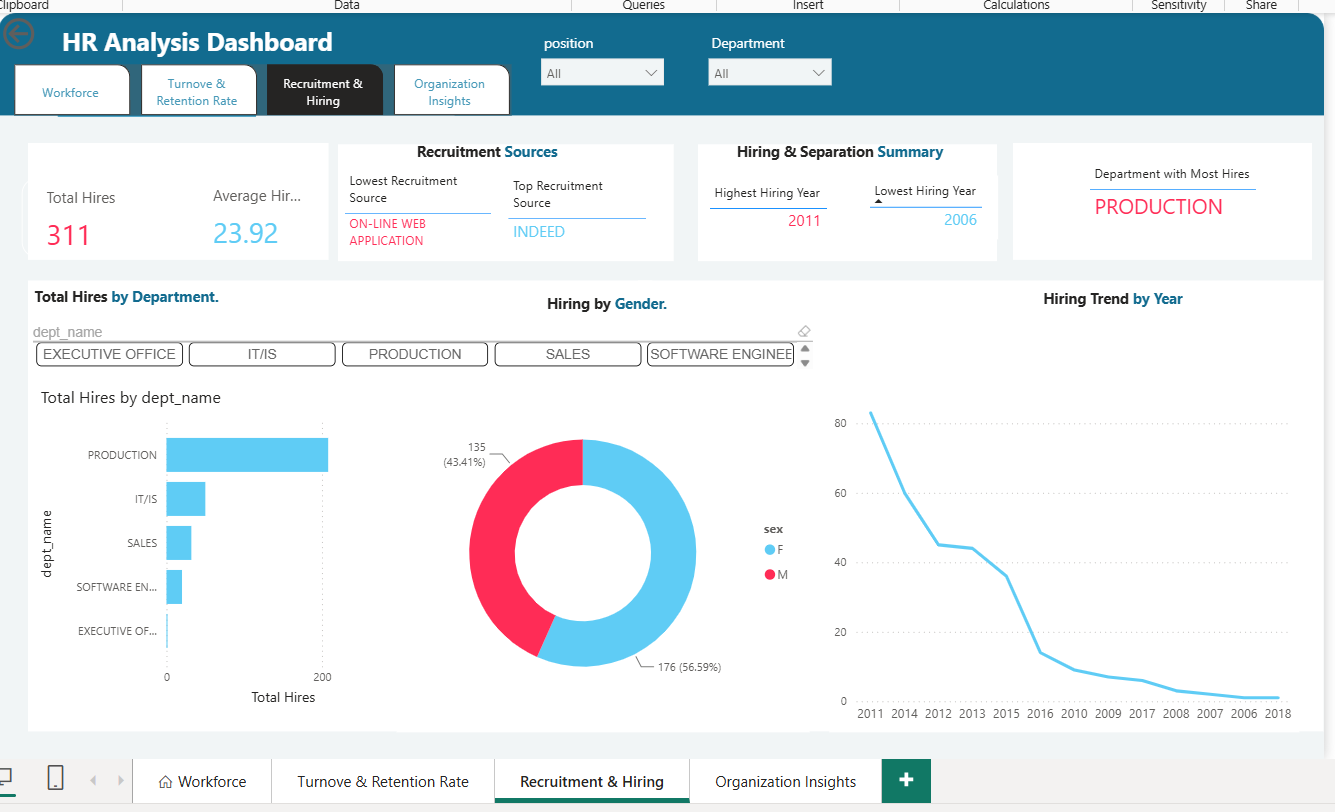

What the dashboard file says about the page in this screenshot:
{"tool":"powerbi","page":{"name":"Recruitment & Hiring","canvas":[1280,720],"ordinal":2},"visuals":[{"type":"shape","box":[618,258,661.9,435.1],"z":0},{"type":"shape","box":[28.9,258.7,602.6,435.2],"z":1000},{"type":"shape","box":[29.3,125.5,290.1,113],"z":2000},{"type":"lineChart","fields":{"Category":["Calendar_Hire.Year"],"Y":["fact_hr_snapshot.Total Hires"]},"box":[802.2,348.7,453.5,345.8],"z":3000},{"type":"donutChart","fields":{"Category":["dim_emp.sex"],"Y":["fact_hr_snapshot.Total Hires"]},"box":[384.3,348.6,398.6,345.7],"z":4000},{"type":"shape","box":[328.6,127.1,324.3,112.9],"z":5000},{"type":"shape","box":[675.7,127.1,288.6,112.9],"z":6000},{"type":"shape","box":[980,125.7,288.6,112.9],"z":7000},{"type":"Timeline1447991079100","fields":{"Time":["Calendar_Hire.Year"]},"box":[837.1,17.1,441.4,65.7],"z":8000},{"type":"textbox","box":[29.8,259.4,275,39.7],"z":9000},{"type":"textbox","box":[1003.5,260.8,276.4,39.7],"z":10000},{"type":"textbox","box":[384.3,120,174.3,40],"z":12000},{"type":"textbox","box":[680,120,264.3,40],"z":13000},{"type":"actionButton","box":[101.1,62.2,99.9,40],"z":14000},{"type":"slicer","fields":{"Values":["dim_position.position"]},"box":[514.3,14.3,138.6,71.4],"z":16000},{"type":"textbox","box":[57.2,5.6,344.5,58.6],"z":17000},{"type":"slicer","fields":{"Values":["dim_department.dept_name"]},"box":[675.7,14.3,138.6,71.4],"z":18000},{"type":"cardVisual","title":"Overall Retention Rate","fields":{"Data":["fact_hr_snapshot.Total Hires"]},"box":[22.7,158.7,161.6,76.5],"z":19000},{"type":"ChicletSlicer1448559807354","fields":{"Category":["dim_department.dept_name"]},"box":[28.6,295.7,355.7,52.9],"z":20000},{"type":"clusteredBarChart","fields":{"Category":["dim_department.dept_name"],"Y":["fact_hr_snapshot.Total Hires"]},"box":[35.7,360,365.7,314.3],"z":21000},{"type":"actionButton","box":[0,0,100,40],"z":22000},{"type":"textbox","box":[524.4,265,219.7,31.2],"z":23000},{"type":"tableEx","fields":{"Values":["fact_hr_snapshot.Highest Hiring Year"]},"box":[680,158.6,134.3,60],"z":24000},{"type":"tableEx","fields":{"Values":["fact_hr_snapshot.Lowest Hiring Year"]},"box":[834.3,157.1,130,61.4],"z":25000},{"type":"cardVisual","fields":{"Data":["fact_hr_snapshot.Average Hires per Year"]},"box":[190,160,122.9,71.4],"z":26000},{"type":"Timeline1447991079100","box":[837.1,17.1,441.4,65.7],"z":27000},{"type":"tableEx","fields":{"Values":["fact_hr_snapshot.Department with Most Hires"]},"box":[1047.1,140,188.6,71.4],"z":28000},{"type":"tableEx","fields":{"Values":["fact_hr_snapshot.Top Recruitment Source"]},"box":[485.7,151.4,154.3,77.1],"z":29000},{"type":"tableEx","fields":{"Values":["fact_hr_snapshot.Lowest Recruitment Source"]},"box":[328.6,147.1,162.9,88.6],"z":30000}]}

Visuals, with their boxes on the page's 1280x720 design canvas (x1, y1, x2, y2). These are canvas units, not pixel positions in the 1335x812 screenshot, which may show the page scaled, cropped or inside an application window:
shape: x1=618 y1=258 x2=1280 y2=693
shape: x1=29 y1=259 x2=632 y2=694
shape: x1=29 y1=126 x2=319 y2=238
lineChart - Calendar_Hire.Year x fact_hr_snapshot.Total Hires: x1=802 y1=349 x2=1256 y2=694
donutChart - dim_emp.sex x fact_hr_snapshot.Total Hires: x1=384 y1=349 x2=783 y2=694
shape: x1=329 y1=127 x2=653 y2=240
shape: x1=676 y1=127 x2=964 y2=240
shape: x1=980 y1=126 x2=1269 y2=239
Timeline1447991079100 - Calendar_Hire.Year: x1=837 y1=17 x2=1278 y2=83
textbox: x1=30 y1=259 x2=305 y2=299
textbox: x1=1004 y1=261 x2=1280 y2=300
textbox: x1=384 y1=120 x2=559 y2=160
textbox: x1=680 y1=120 x2=944 y2=160
actionButton: x1=101 y1=62 x2=201 y2=102
slicer - dim_position.position: x1=514 y1=14 x2=653 y2=86
textbox: x1=57 y1=6 x2=402 y2=64
slicer - dim_department.dept_name: x1=676 y1=14 x2=814 y2=86
"Overall Retention Rate" cardVisual: x1=23 y1=159 x2=184 y2=235
ChicletSlicer1448559807354 - dim_department.dept_name: x1=29 y1=296 x2=384 y2=349
clusteredBarChart - dim_department.dept_name x fact_hr_snapshot.Total Hires: x1=36 y1=360 x2=401 y2=674
actionButton: x1=0 y1=0 x2=100 y2=40
textbox: x1=524 y1=265 x2=744 y2=296
tableEx - fact_hr_snapshot.Highest Hiring Year: x1=680 y1=159 x2=814 y2=219
tableEx - fact_hr_snapshot.Lowest Hiring Year: x1=834 y1=157 x2=964 y2=218
cardVisual - fact_hr_snapshot.Average Hires per Year: x1=190 y1=160 x2=313 y2=231
Timeline1447991079100: x1=837 y1=17 x2=1278 y2=83
tableEx - fact_hr_snapshot.Department with Most Hires: x1=1047 y1=140 x2=1236 y2=211
tableEx - fact_hr_snapshot.Top Recruitment Source: x1=486 y1=151 x2=640 y2=228
tableEx - fact_hr_snapshot.Lowest Recruitment Source: x1=329 y1=147 x2=492 y2=236
